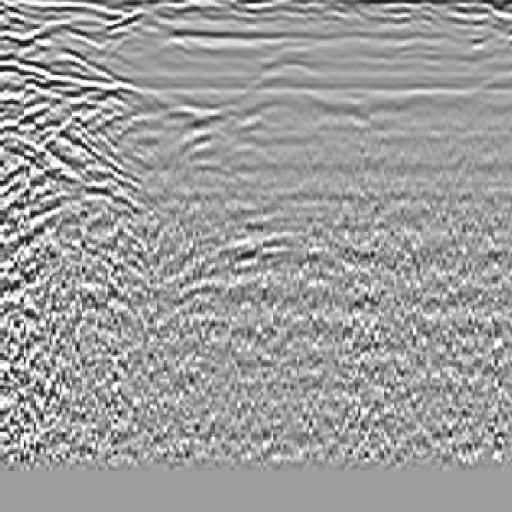non-metallic: (155, 223, 412, 376), (1, 29, 128, 301)
